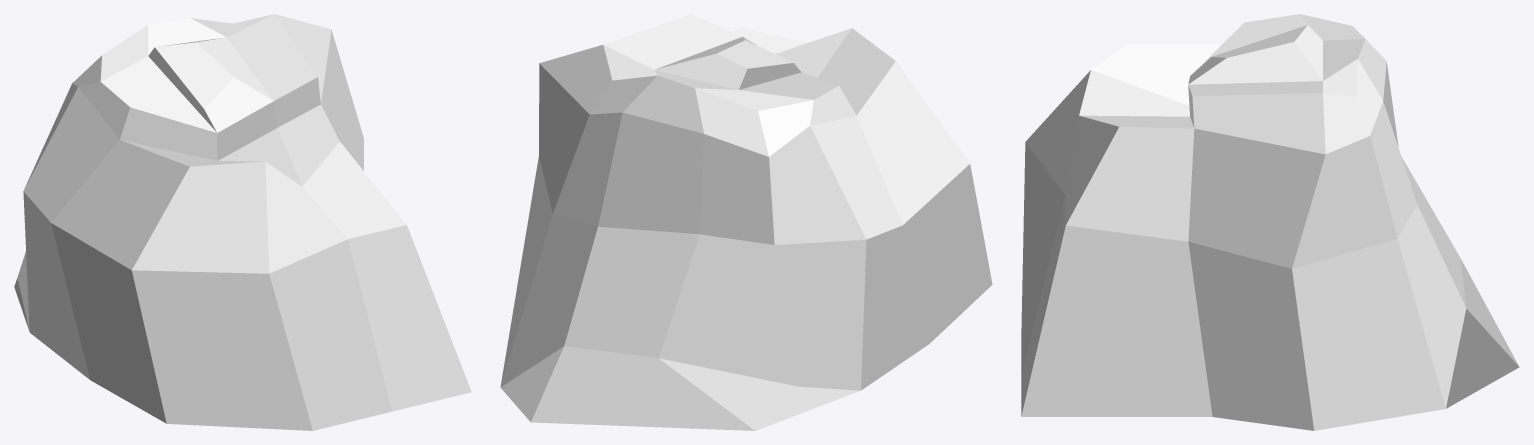
Rendered from Rock.obj.
3 views of the same model, side by side, from view 1: azimuth 30°, elevation 25°; view 2: azimuth 150°, elevation 25°; view 3: azimuth 270°, elevation 25° (orthographic). The views are drawn at different scales.
Visible parts, largest first — view 1: Cube; view 2: Cube; view 3: Cube.
Part boxes in pixels (bbox=[...]): Cube: bbox=[14, 14, 471, 430]; Cube: bbox=[500, 14, 992, 430]; Cube: bbox=[1021, 14, 1519, 430].
Size of the model in its own units: 2.09 by 1.74 by 2.61.
